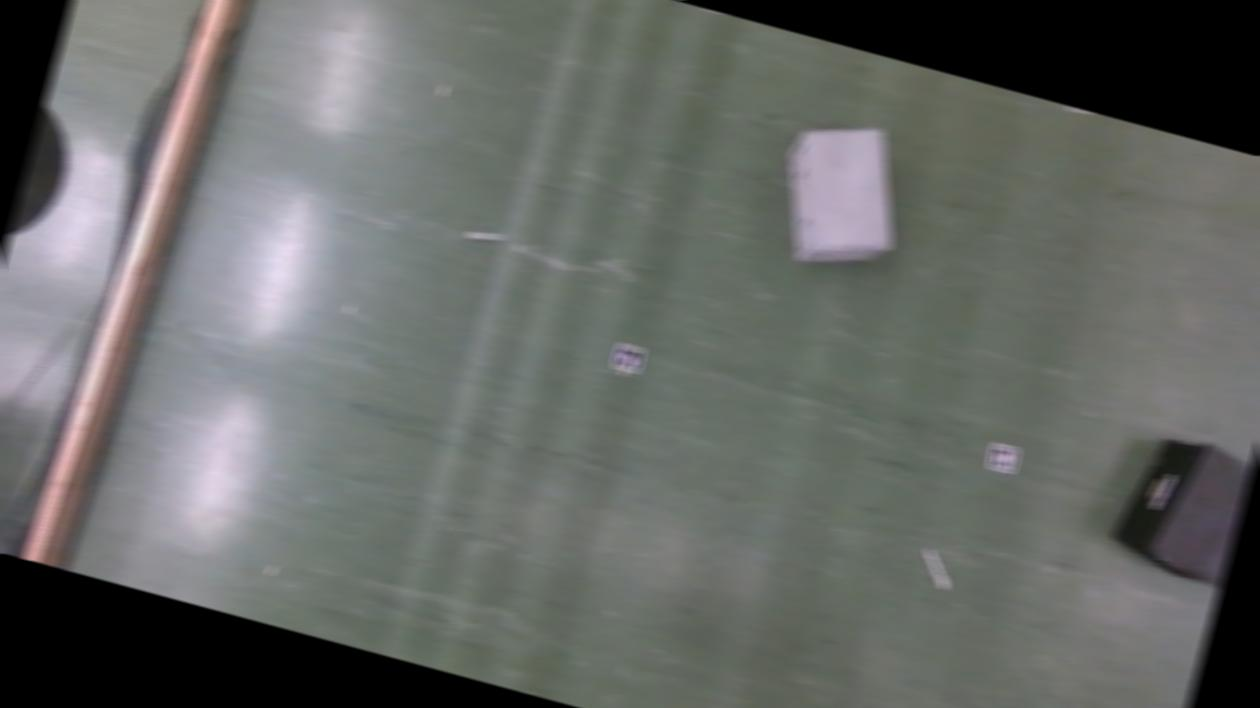probes: (916, 548, 954, 590), (462, 224, 507, 248)
rako: (762, 109, 921, 285), (1104, 425, 1257, 588)
